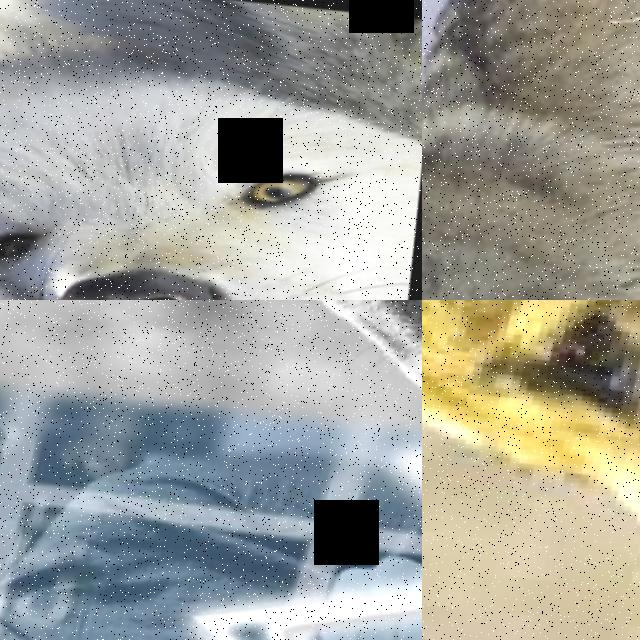dog: (422, 300, 640, 640)
wolf: (0, 9, 422, 300), (0, 0, 422, 264), (0, 113, 422, 300), (422, 0, 640, 300), (0, 300, 422, 438)
